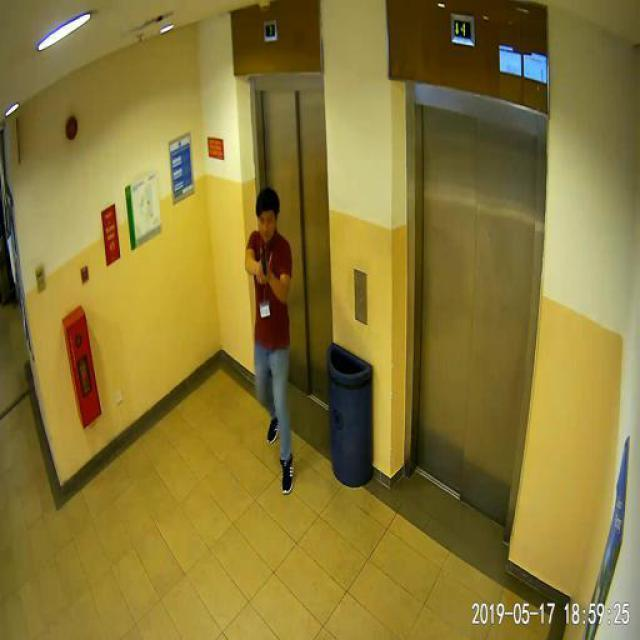gun: (256, 242, 266, 278)
